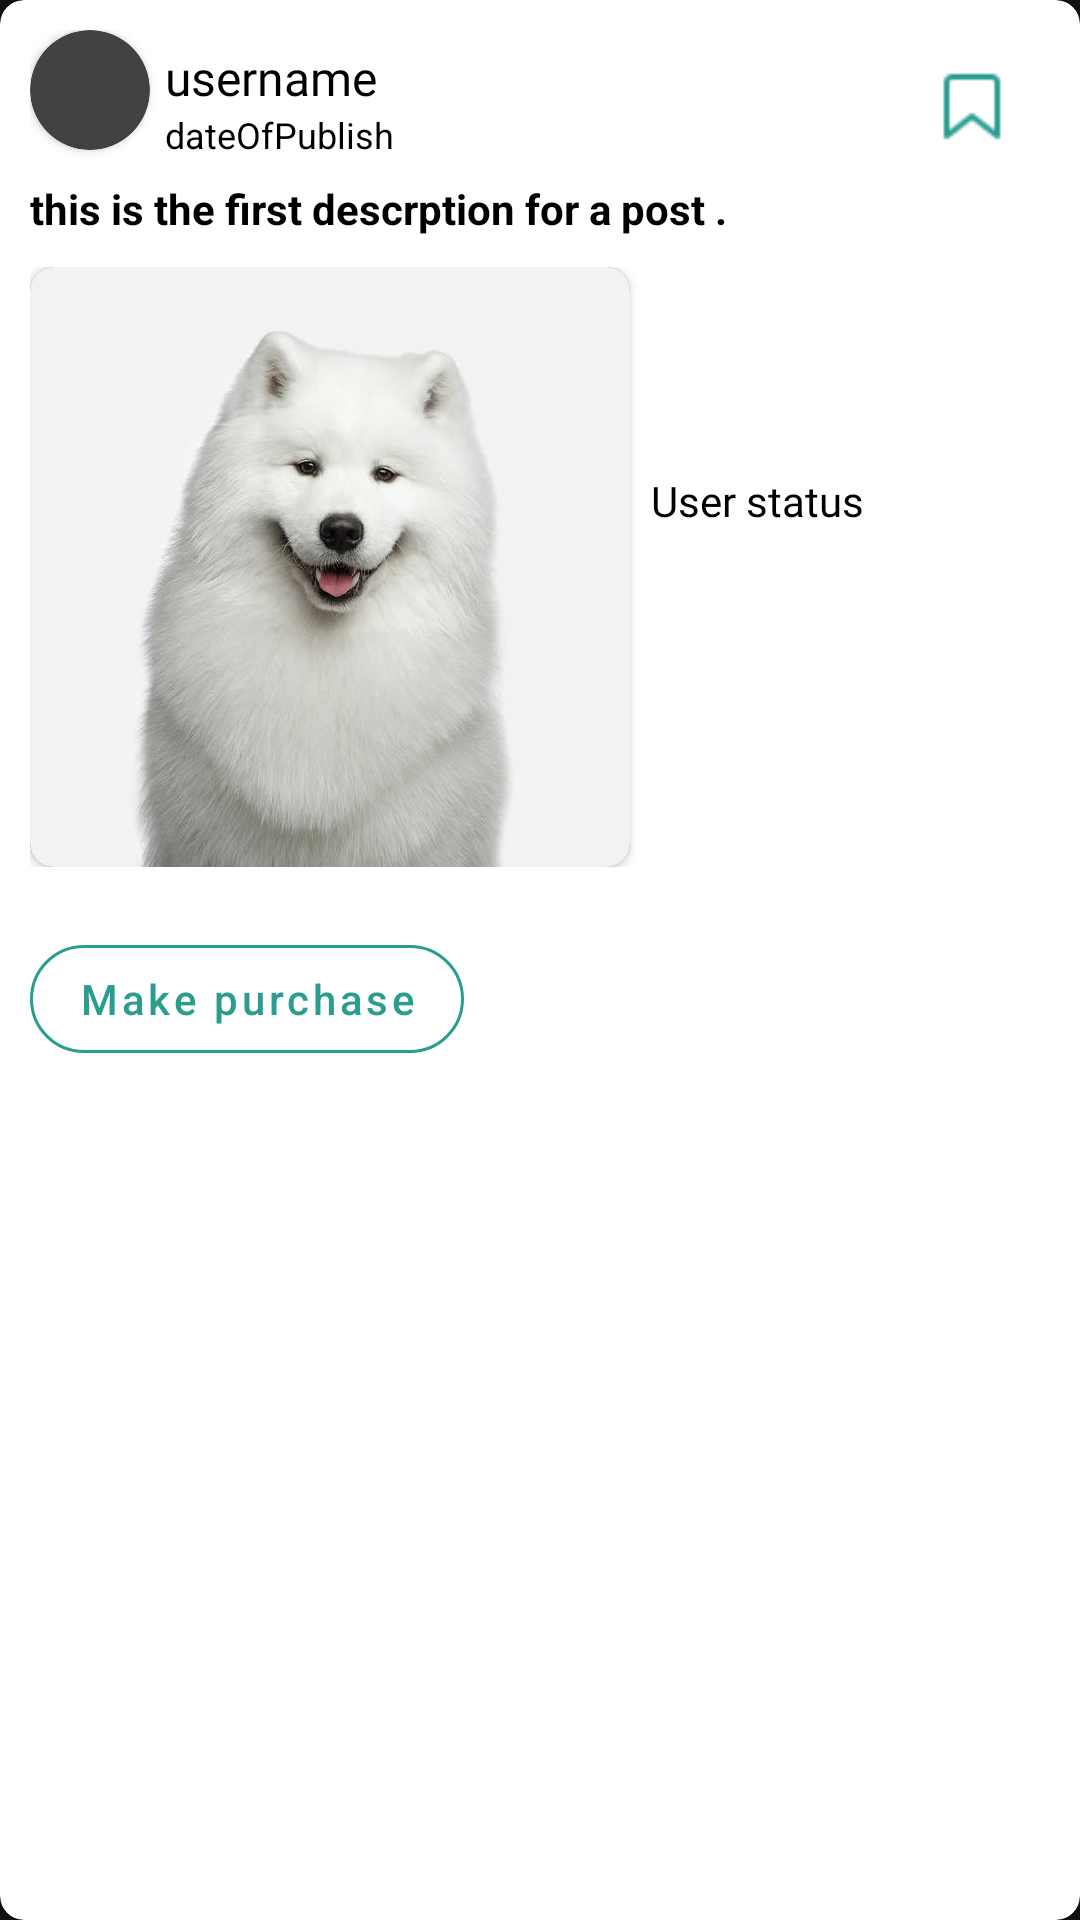

Named icons in this screenshot (1080 × 1920) and their bounding boxes, (x1, y1, x2, y2):
save: (943, 73, 1001, 140)
